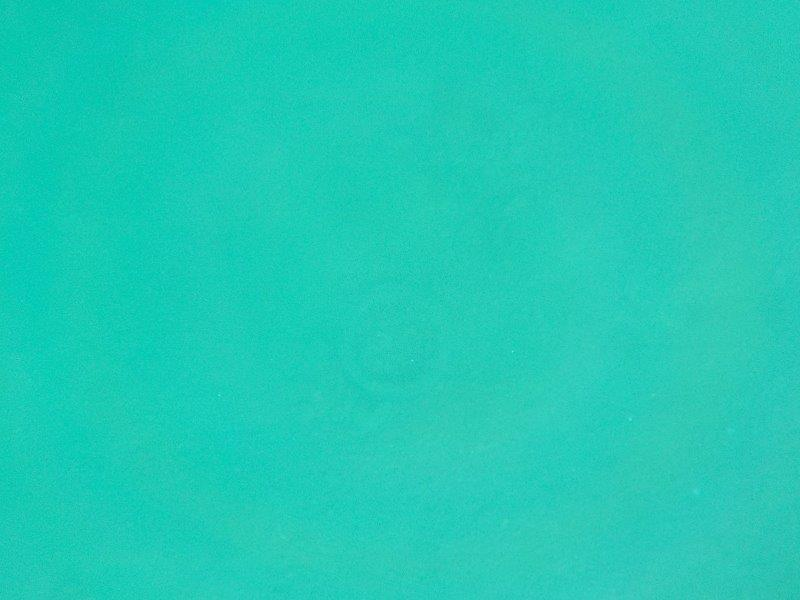tire: (332, 288, 449, 397)
